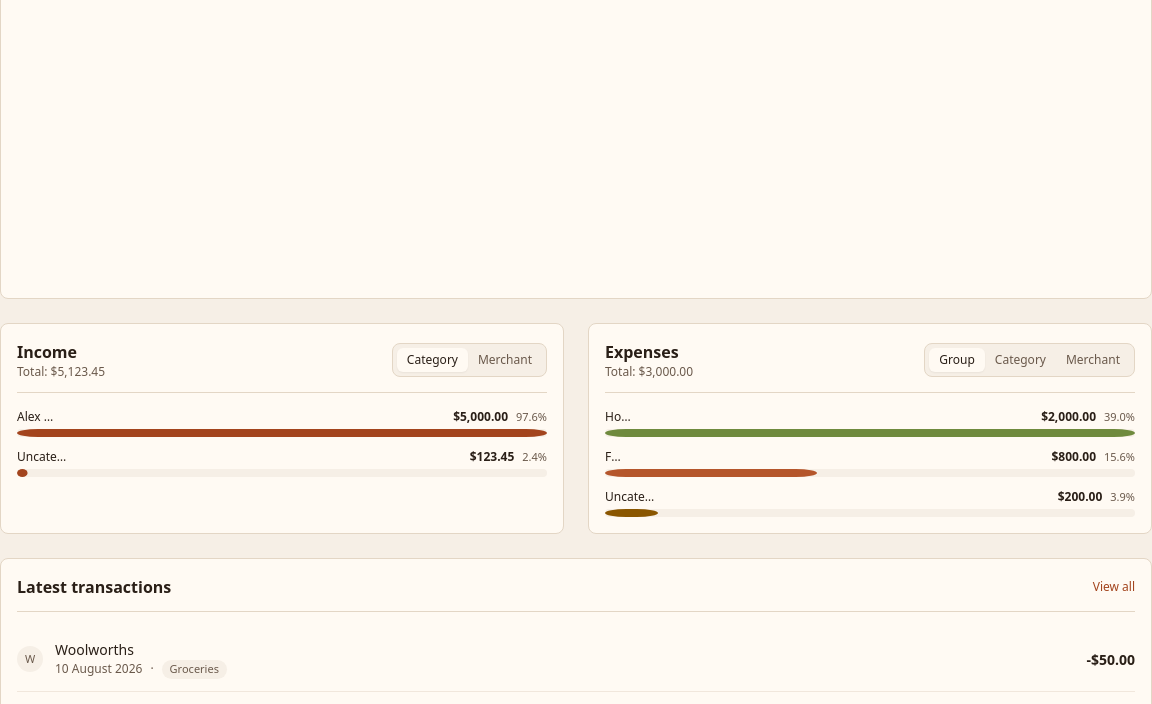
Scenario: CashFlowPage › switches bar lists between category, group, and merchant, with drill-through links
(page scrolled)
Check: the link "Alex Wages" is shown, box [17, 409, 59, 425]
Check: the link "Housing" is shown, box [605, 409, 636, 425]
Switch Income to Merchant
Click the button "Merchant" in the row of "Income" at (505,360), box [468, 348, 542, 372]
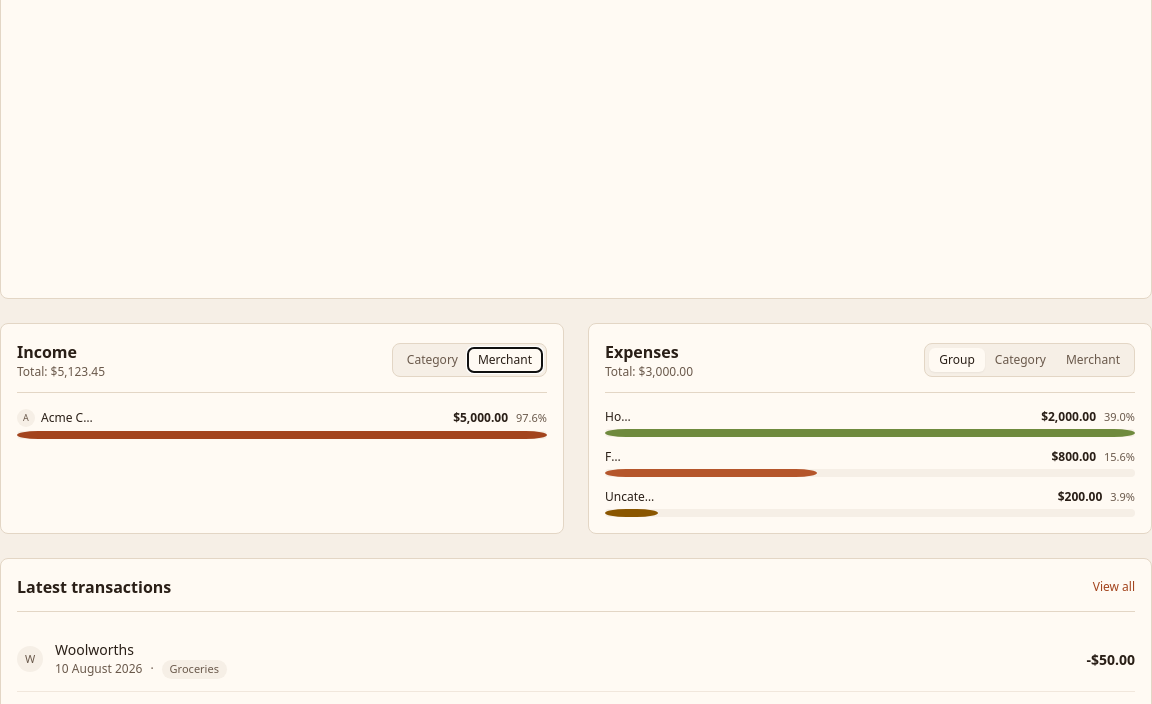
Check: the link "Acme Corp" is shown, box [41, 410, 97, 426]
Switch Expense to Category
Click the 2nd button "Category" at (1020,360), box [985, 348, 1056, 372]
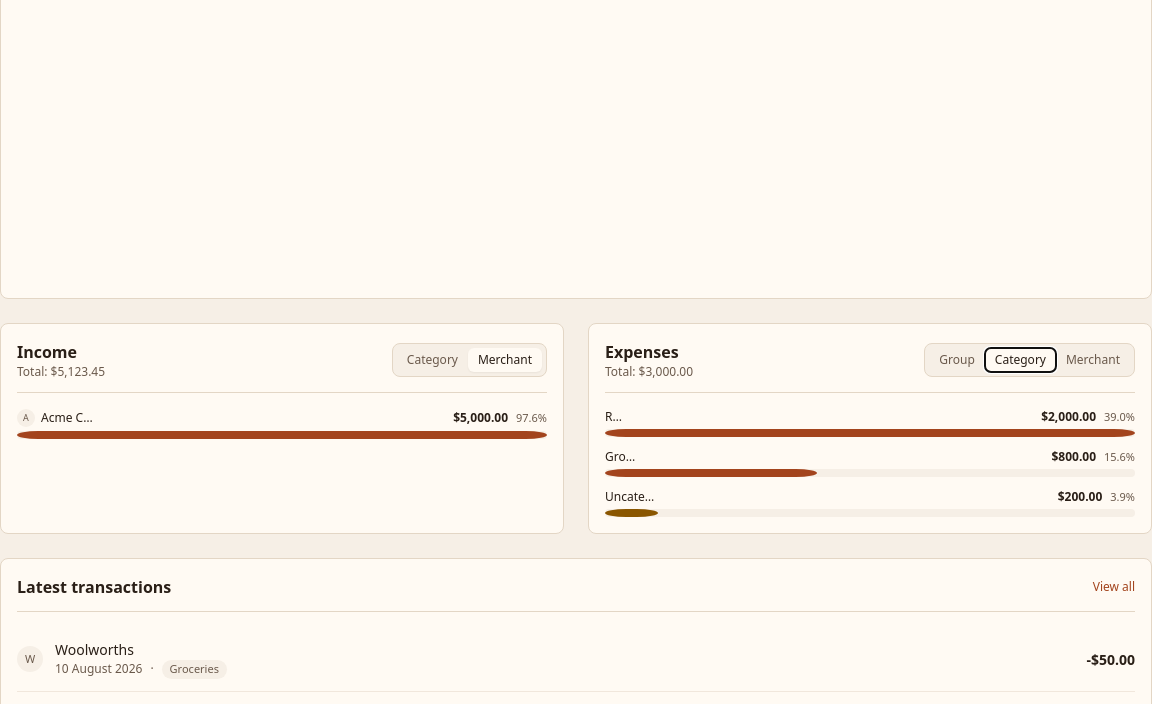
Check: the link "Groceries" is shown, box [605, 449, 640, 465]
Switch Expense to Merchant
Click the 2nd button "Merchant" at (1093,360), box [1056, 348, 1130, 372]
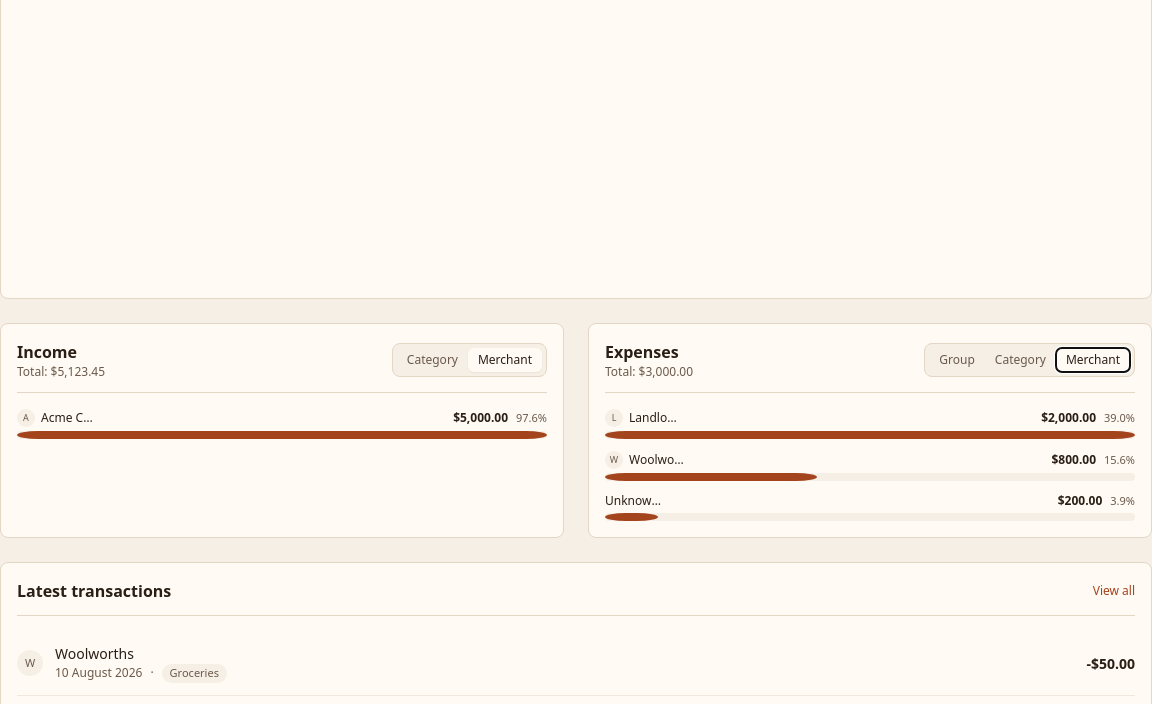
Check: the link "Woolworths" is shown, box [629, 452, 689, 468]
